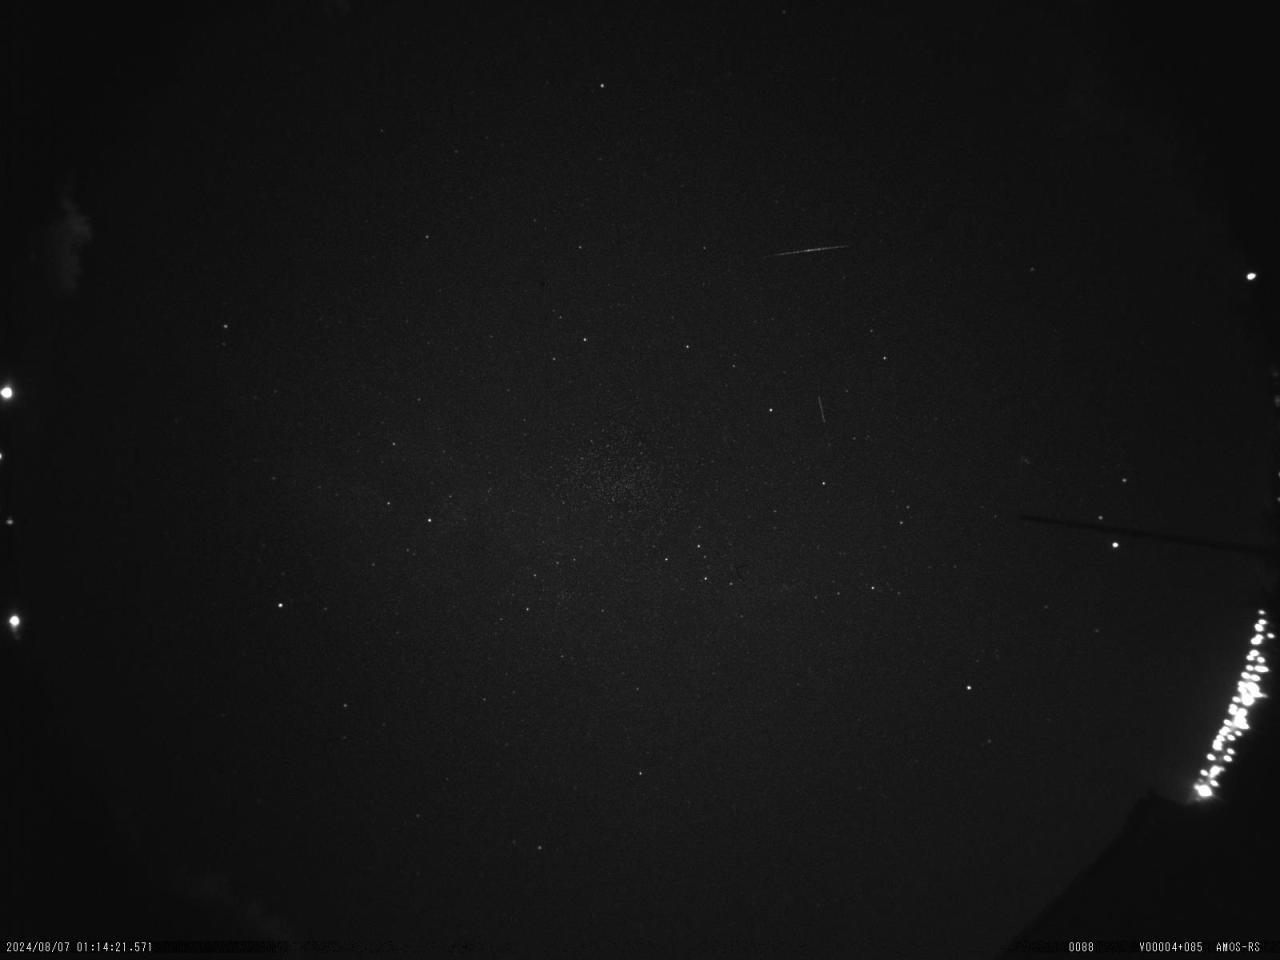Meteor: (765, 240, 852, 261), (814, 389, 830, 427)
